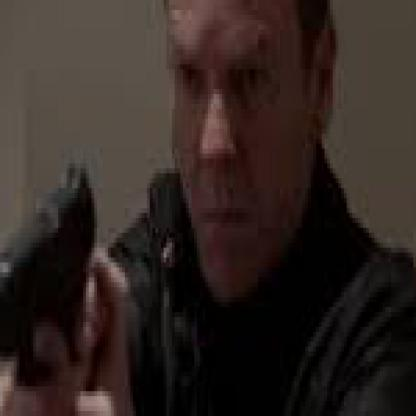gun: (53, 0, 413, 411)
